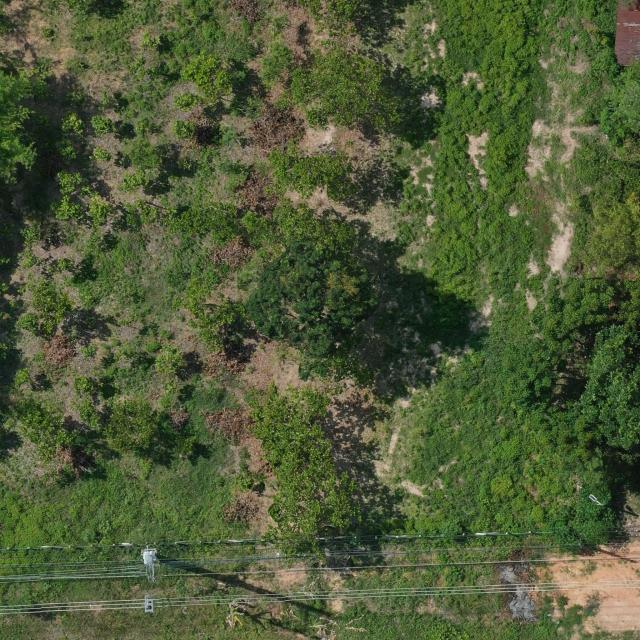tree: (495, 271, 640, 467), (236, 379, 372, 570), (243, 239, 383, 359), (291, 47, 389, 136), (241, 198, 356, 264), (168, 272, 248, 352), (265, 141, 355, 205), (580, 188, 640, 276), (152, 200, 242, 251), (103, 397, 166, 455), (181, 48, 237, 105), (32, 278, 73, 336), (259, 40, 297, 92), (124, 196, 178, 230), (120, 137, 164, 170), (85, 195, 125, 229), (69, 398, 105, 432), (153, 344, 187, 378), (260, 10, 294, 42), (51, 196, 84, 226), (132, 57, 171, 81), (115, 168, 150, 193), (168, 119, 205, 142), (172, 90, 208, 112), (53, 137, 80, 164), (14, 366, 42, 392), (57, 168, 86, 193), (89, 115, 120, 138), (136, 29, 166, 52), (73, 373, 100, 396), (61, 110, 83, 138), (14, 310, 39, 334), (89, 144, 112, 164)
